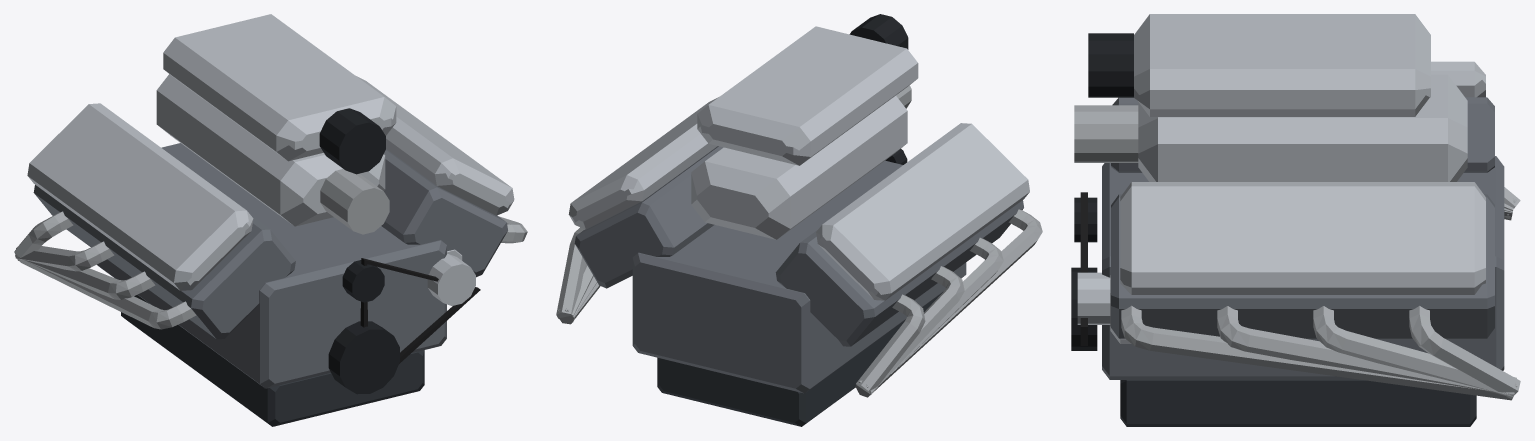
Rendered from crate_v8_k2.glb.
The picture shows the model from 3 angles, left to right: view 1: azimuth 30°, elevation 25°; view 2: azimuth 150°, elevation 25°; view 3: azimuth 270°, elevation 25°; orthographic projection. The views are drawn at different scales.
Visible parts, largest first — view 1: model; view 2: model; view 3: model.
Part boxes in pixels (x1=…): model: x1=14, y1=14, x2=527, y2=426; model: x1=556, y1=14, x2=1042, y2=426; model: x1=1071, y1=14, x2=1520, y2=426.
Size of the model in its own units: 0.7751 by 0.5877 by 0.6883.
3 materials, 1 textured.
